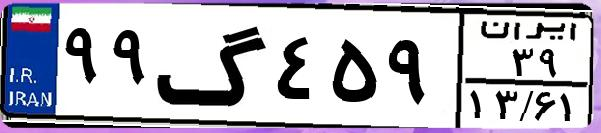1: (560, 70, 590, 125), (470, 70, 495, 125)
3: (508, 27, 537, 80), (495, 70, 520, 125)
4: (270, 28, 330, 110)
5: (330, 28, 385, 110)
6: (535, 70, 560, 125)
9: (385, 28, 445, 110), (57, 26, 110, 100), (110, 28, 156, 98), (537, 27, 568, 80)
گ: (156, 12, 270, 120)
